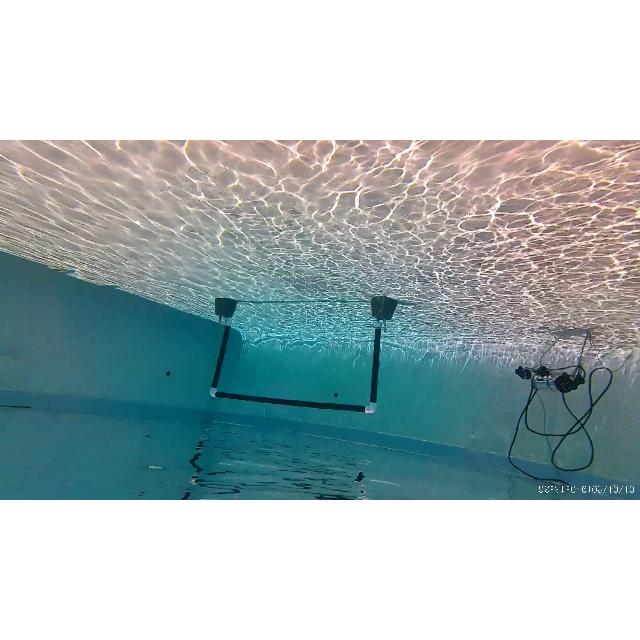prequal gate: (210, 322, 382, 413)
prequal gate leg l: (362, 321, 386, 417)
prequal gate leg r: (208, 322, 234, 404)
